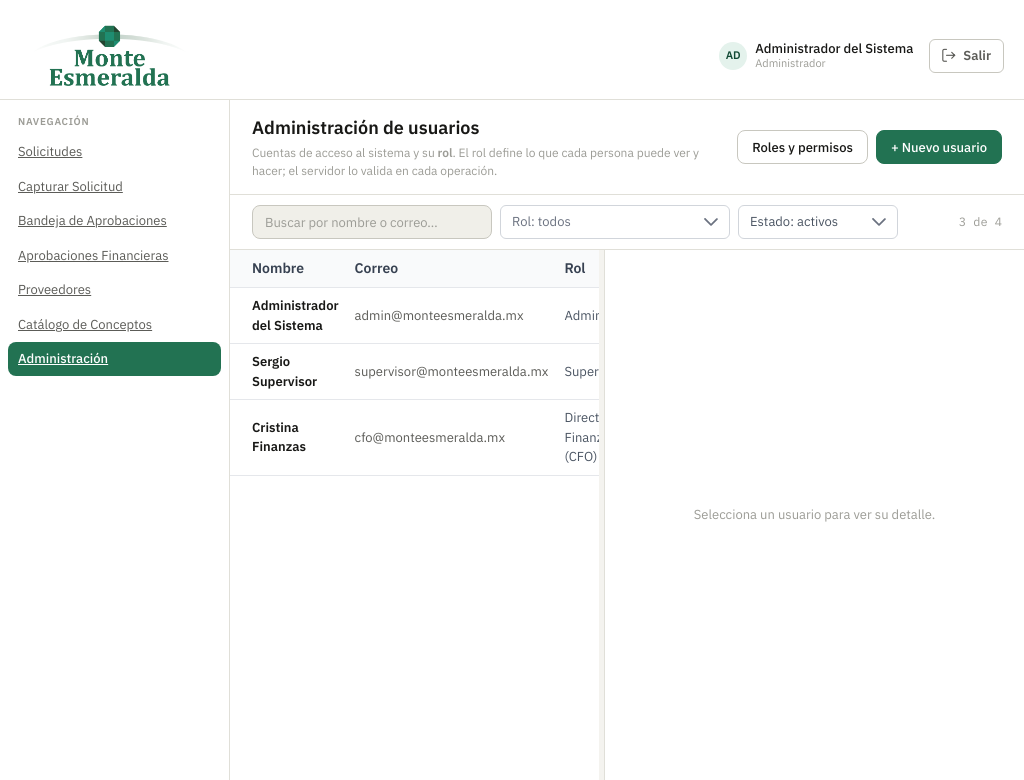
seleccionar un usuario abre el detalle con sus marcas de tiempo
The width and height of the screenshot is (1024, 780).
Expected: the text "Selecciona un usuario para ver su detalle." is shown, [694,505,935,525]
Click the text "Cristina Finanzas" at {"x": 275, "y": 427}, box [252,419,306,455]
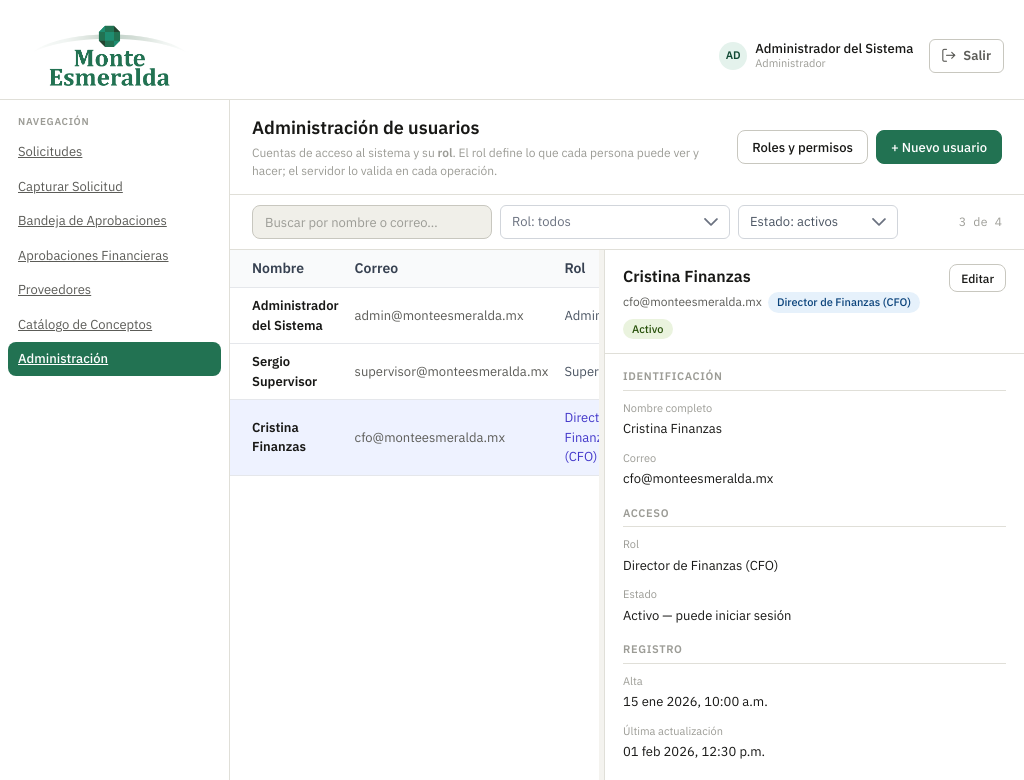
Now the text "Registro" is shown, box [623,641,1006,664]
Now the text "cfo@monteesmeralda.mx" below "Nombre completo" is shown, box [623,470,774,487]
Now the text "Activo — puede iniciar sesión" is shown, box [623,606,792,624]
